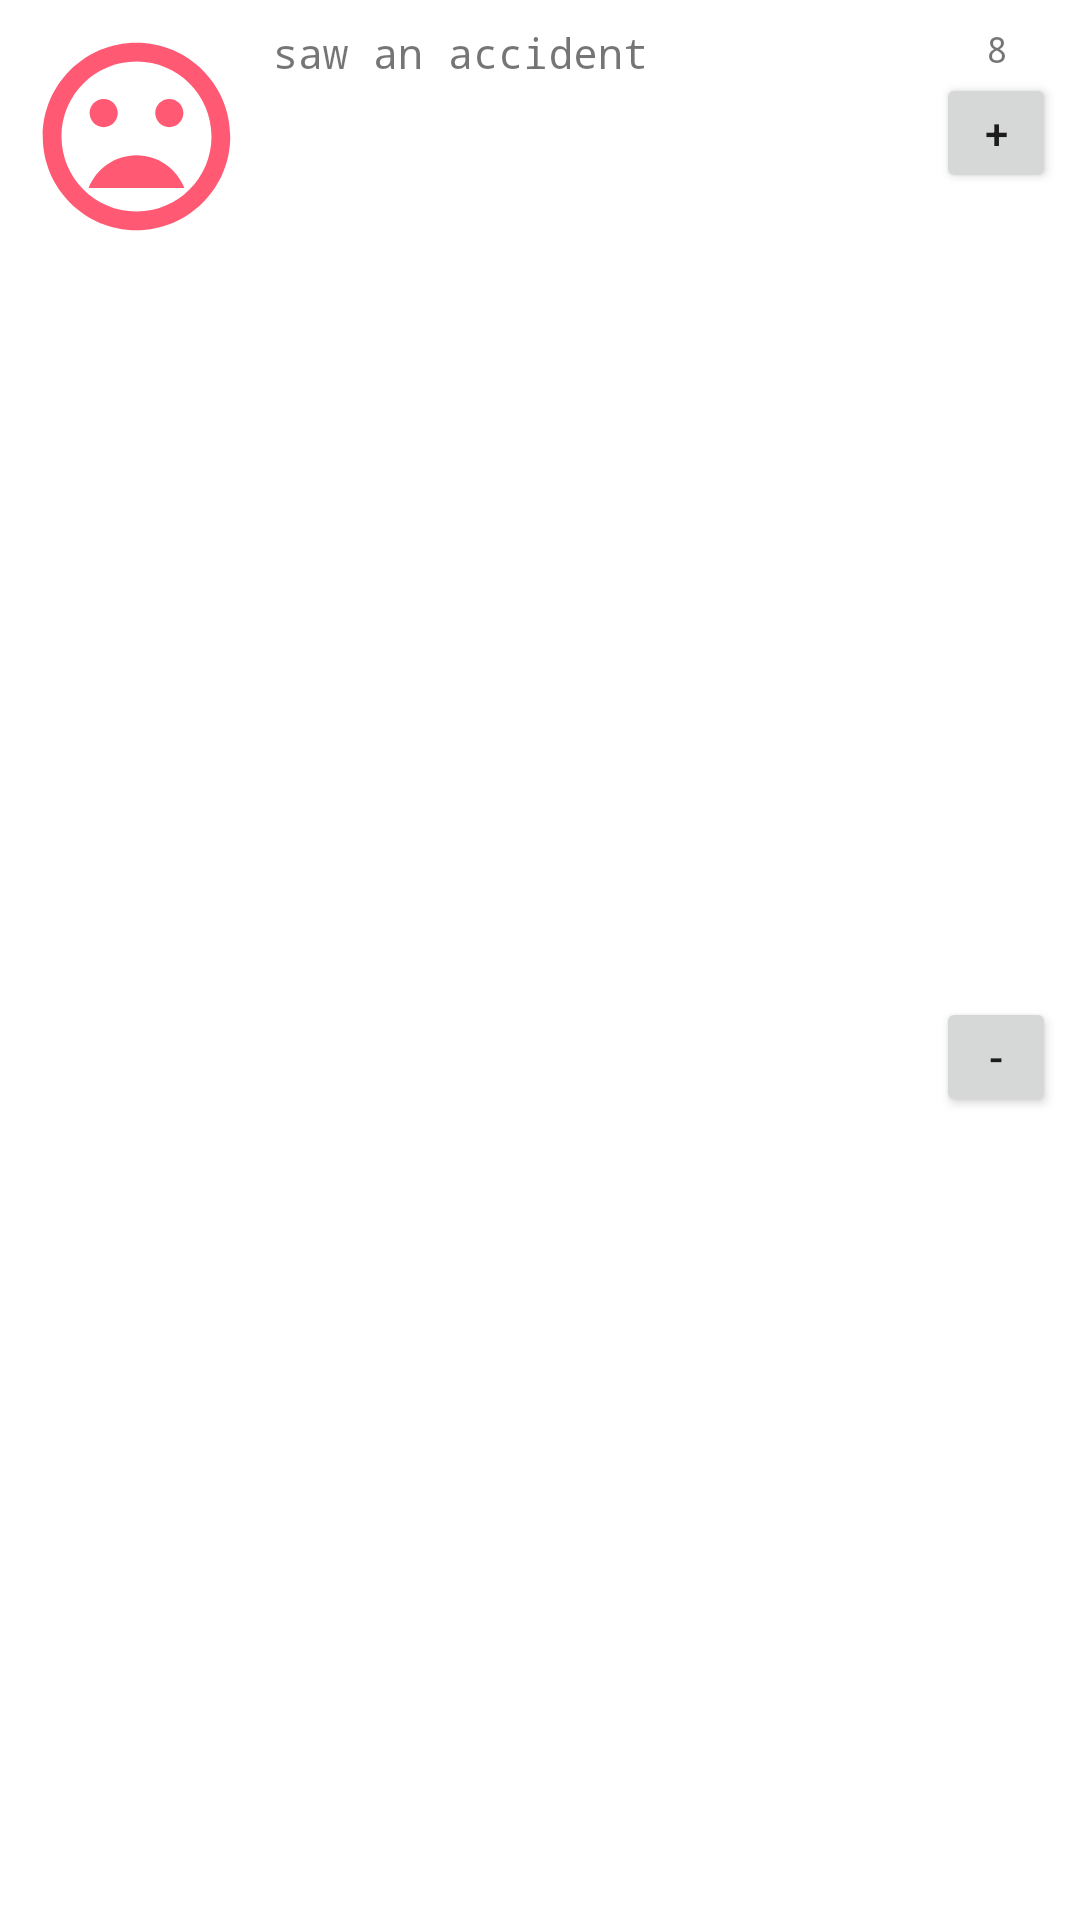

Screen size 1080 x 1920. Icon name, then its center in pixels as point (x, y):
mood bad: point (136, 136)
